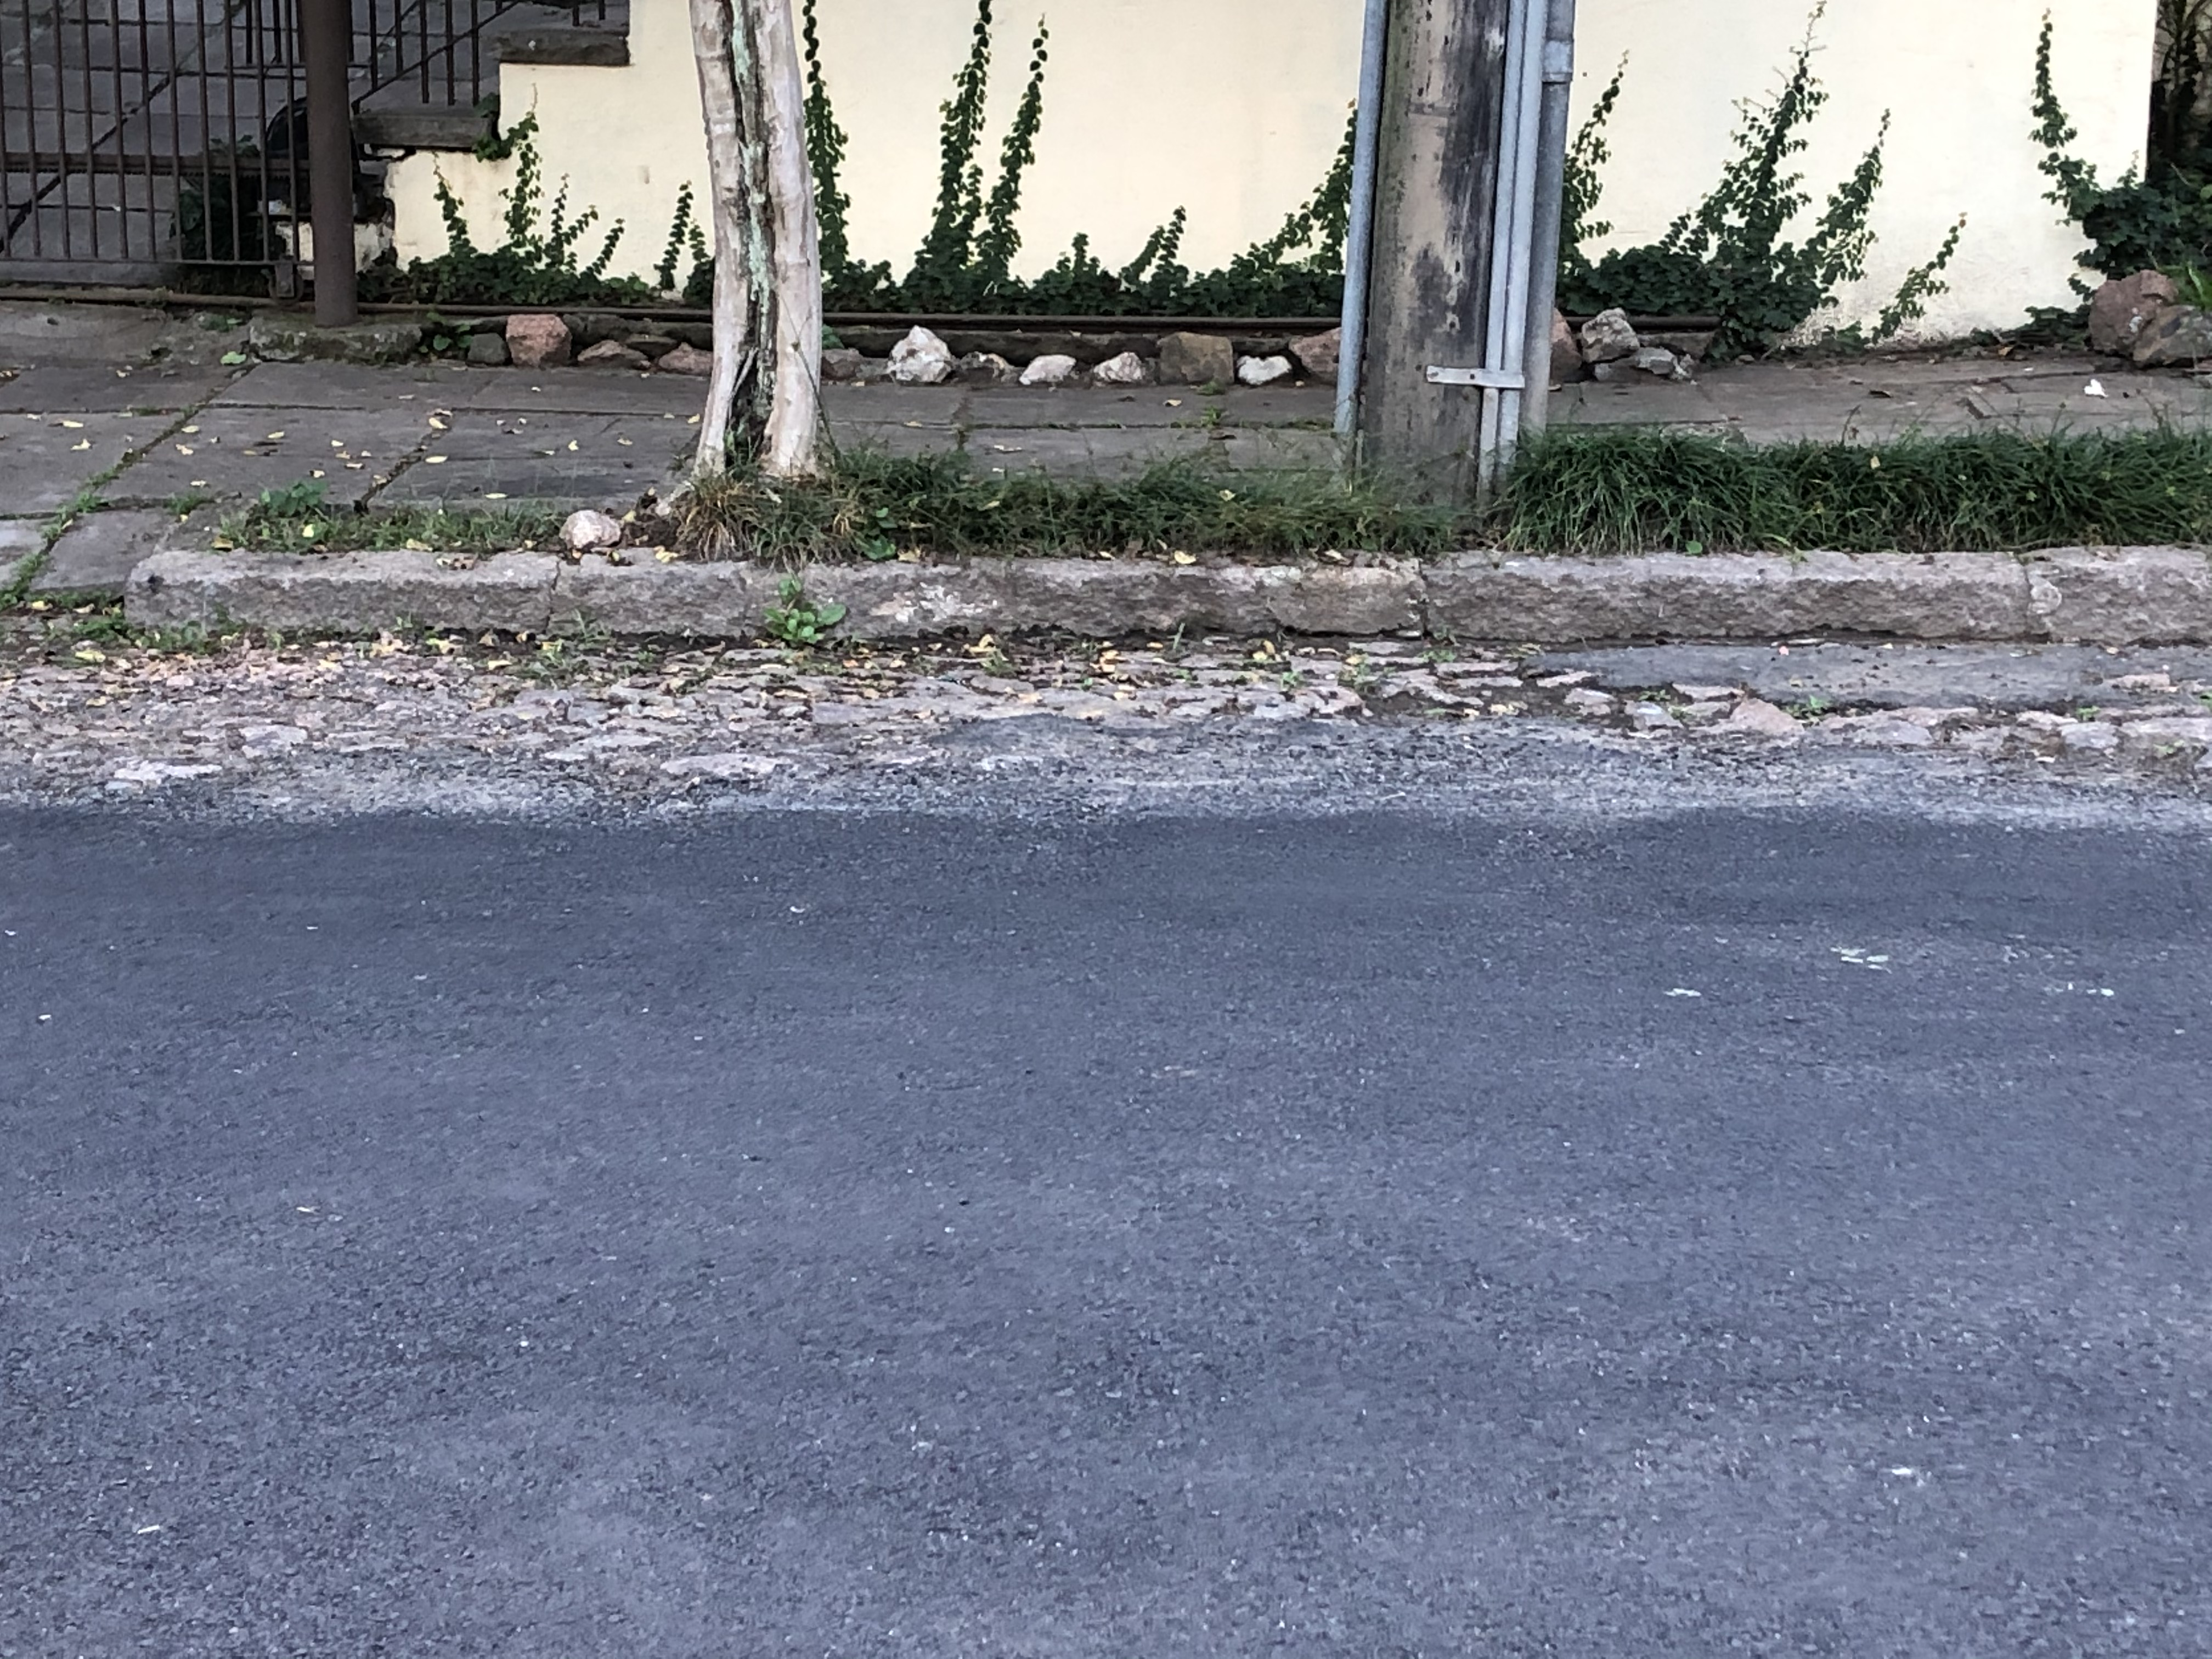vag4: (0, 225, 2203, 784)
